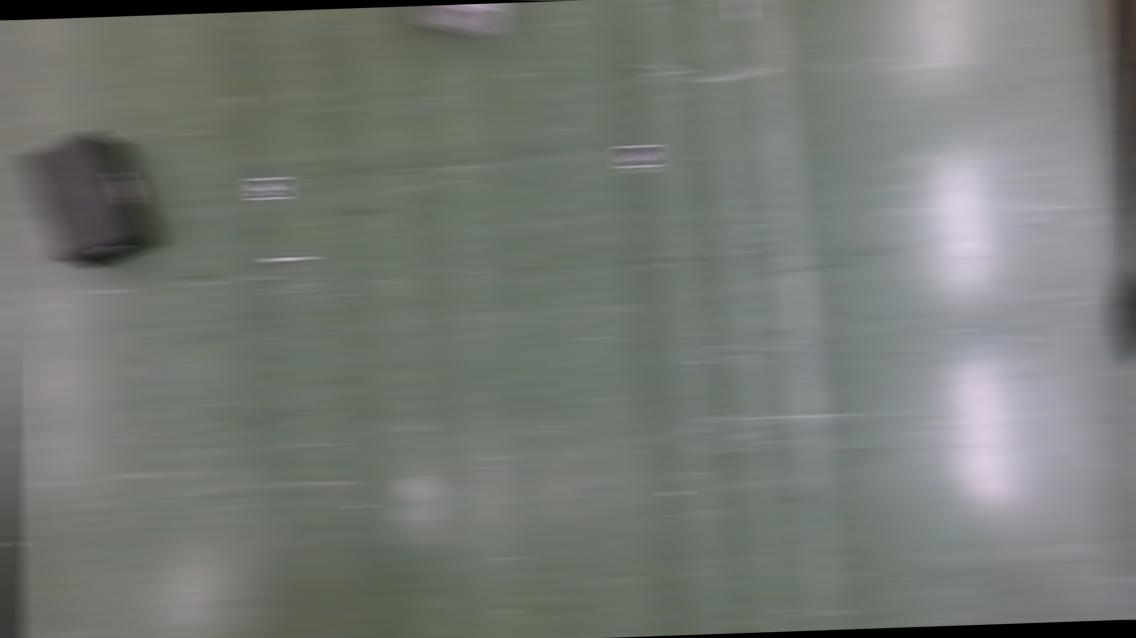probes: (728, 0, 752, 23), (264, 254, 317, 262)
rako: (20, 129, 163, 273), (410, 2, 511, 41)
